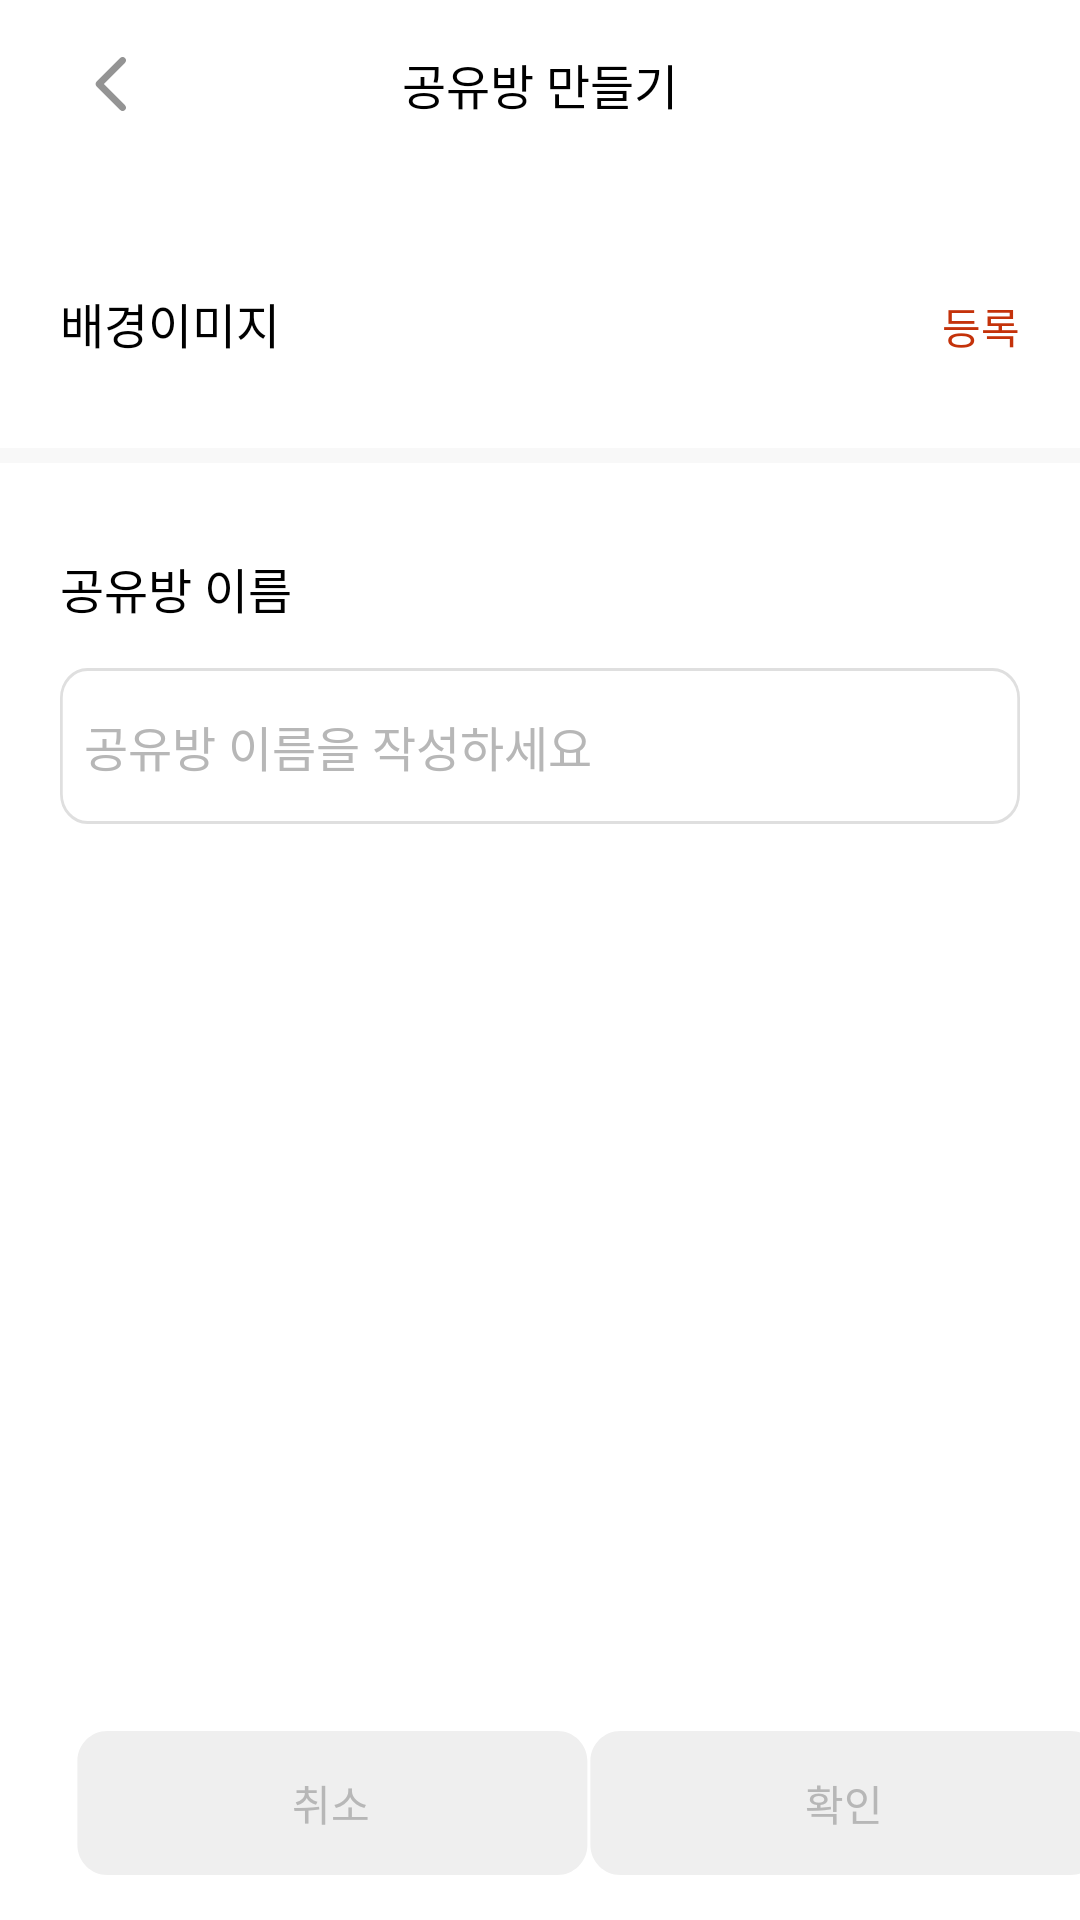

Icons on this 1080×1920 Android screen, each with the point to tap as (x,y):
arrow back: (110,84)
